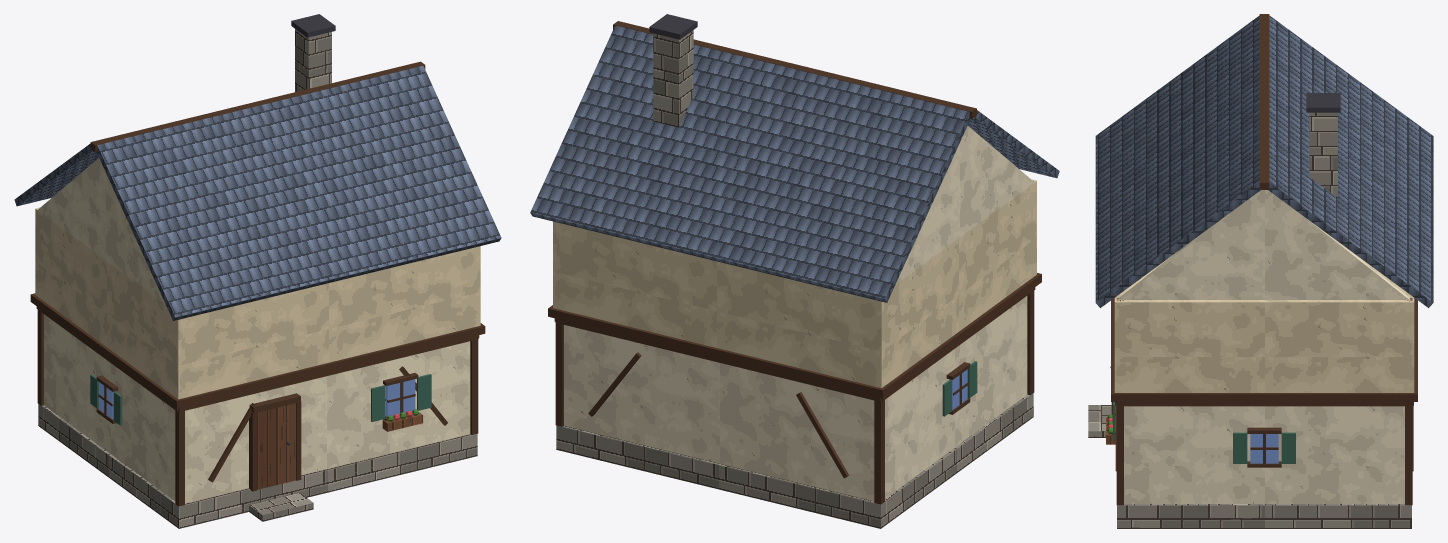
Rendered from house_b.glb.
3 renders of one model, left to right at view 1: azimuth 30°, elevation 25°; view 2: azimuth 150°, elevation 25°; view 3: azimuth 270°, elevation 25°, orthographic. The views are drawn at different scales.
Visible parts, largest first — view 1: House_B; view 2: House_B; view 3: House_B.
Part boxes in pixels (left/top/right/bottom): House_B: left=14, top=14, right=501, bottom=528; House_B: left=530, top=14, right=1059, bottom=528; House_B: left=1088, top=14, right=1433, bottom=528.
Size of the model in its own units: 8.4 by 9.16 by 7.25.
Materials: 16 (10 with a texture image).
